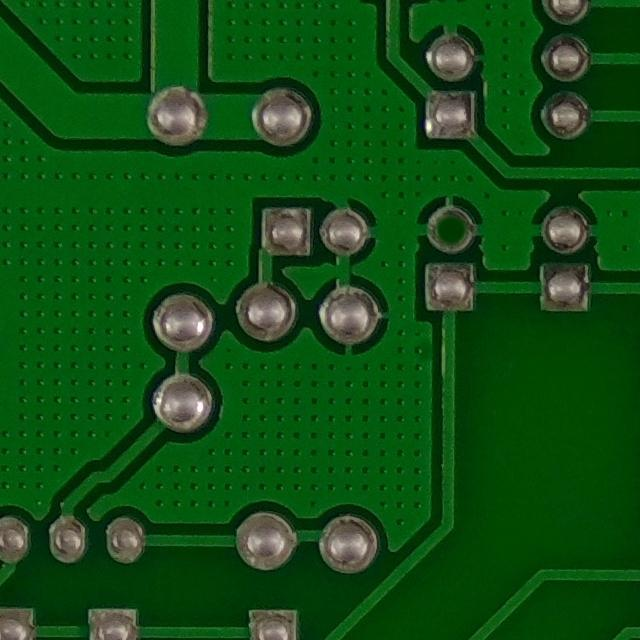missing_hole: (420, 196, 479, 260)
